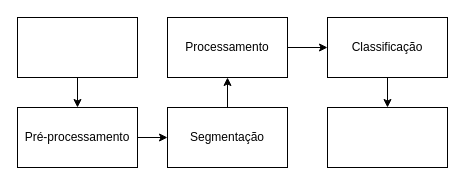
Some shapes in this 465 by 185 pixel diagram are drawn without their labels. Here are the shapes that lost their labels. From the top down, the centre of each, then its label:
point (77, 47): Aquisição
point (387, 137): Alerta
